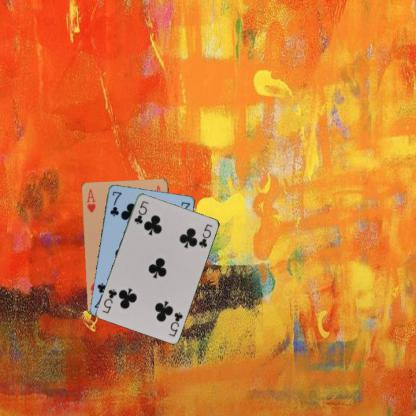5c: (166, 309, 184, 338), (132, 198, 150, 226)
7c: (108, 188, 122, 218)
Ah: (83, 186, 97, 214)
